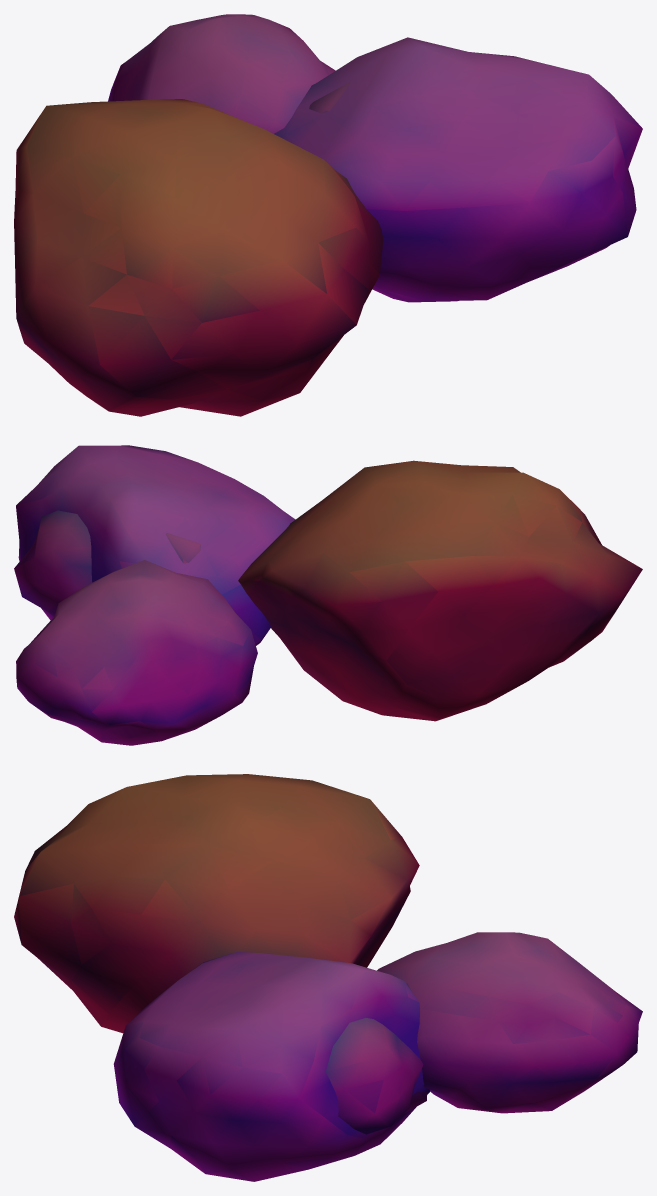
Rendered from veg_rock_d.glb.
3 views of the same model, one above another, from view 1: azimuth 30°, elevation 25°; view 2: azimuth 150°, elevation 25°; view 3: azimuth 270°, elevation 25° (orthographic). The views are drawn at different scales.
Visible parts, largest first — view 1: veg_rock_d_LOD0; view 2: veg_rock_d_LOD0; view 3: veg_rock_d_LOD0.
Part boxes in pixels (x1,y1,x2,y2): veg_rock_d_LOD0: (14, 14, 642, 416); veg_rock_d_LOD0: (14, 445, 642, 745); veg_rock_d_LOD0: (14, 774, 642, 1181).
Size of what is drawn, in the model's own units: 0.5479 by 0.2139 by 0.5163.
